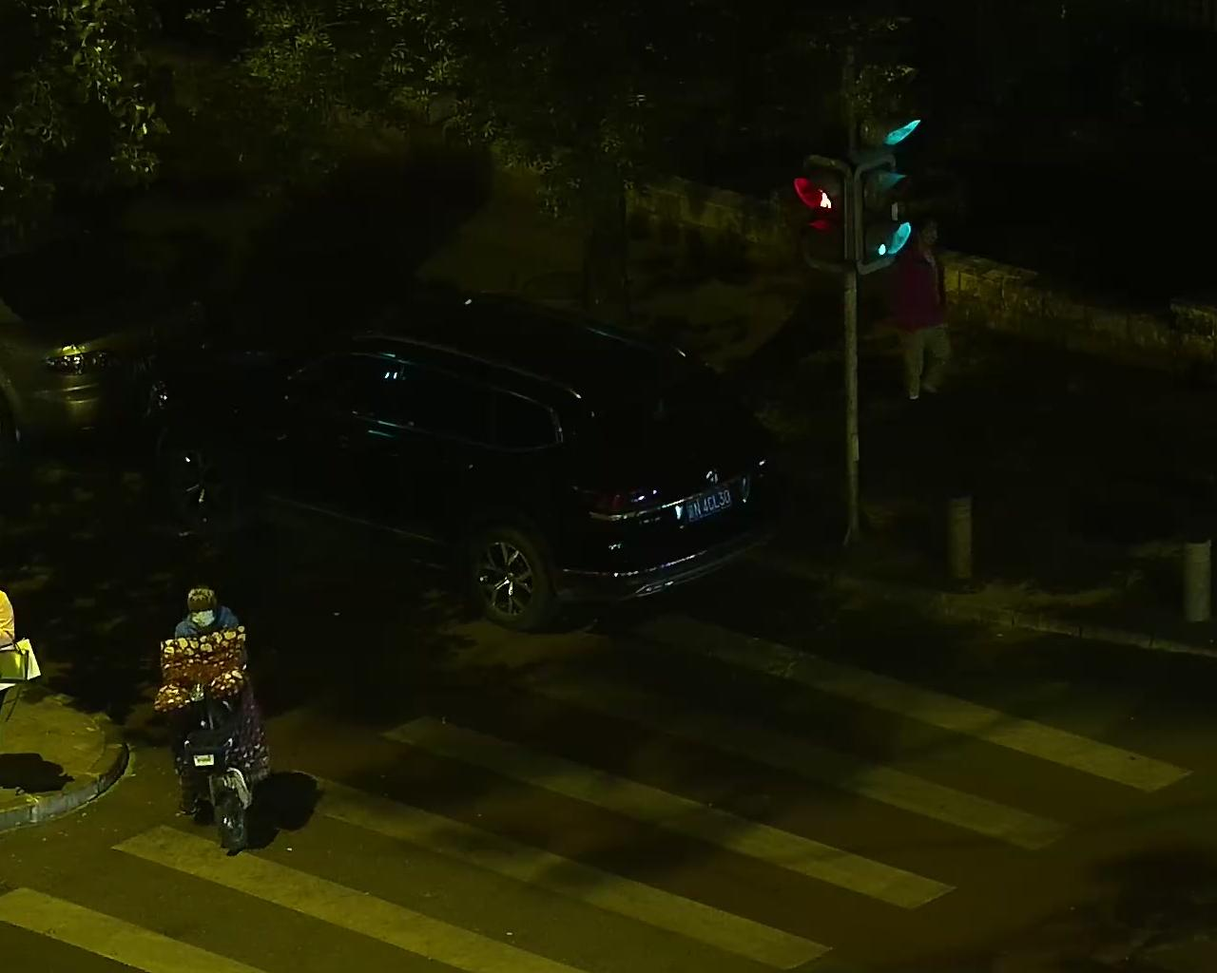person: (181, 572, 268, 774), (903, 221, 978, 416)
